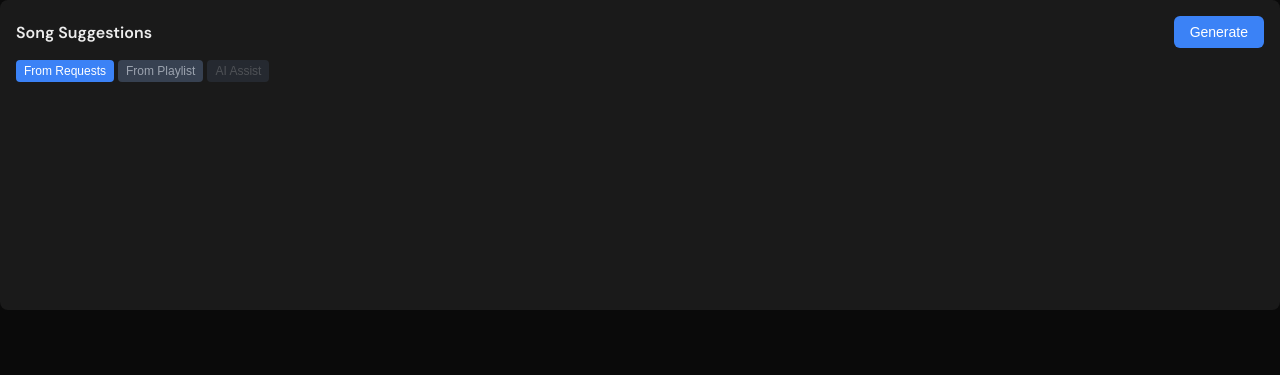
RecommendationsCard › shows service badges on playlists
The image size is (1280, 375).
Click the button "From Playlist" at x=161, y=71, box [118,60,203,82]
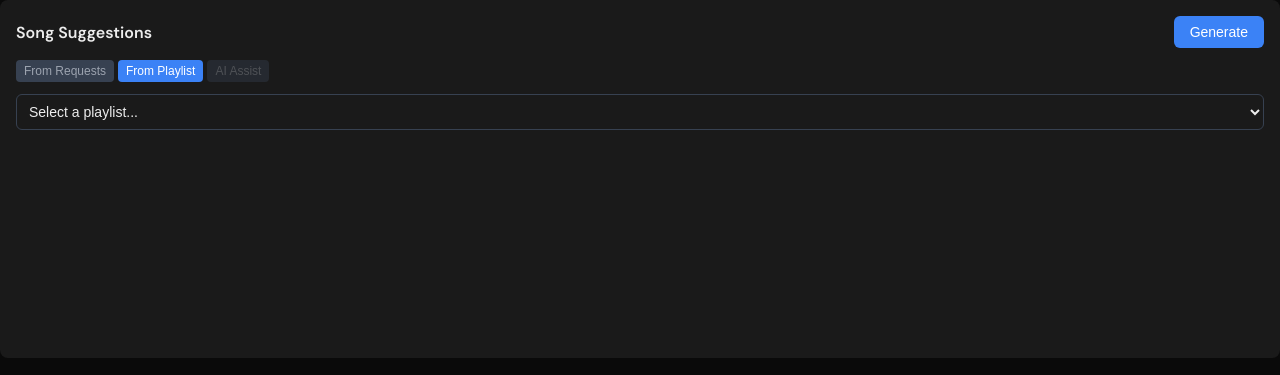
Expected: the dropdown is shown, [16,94,1264,130]
